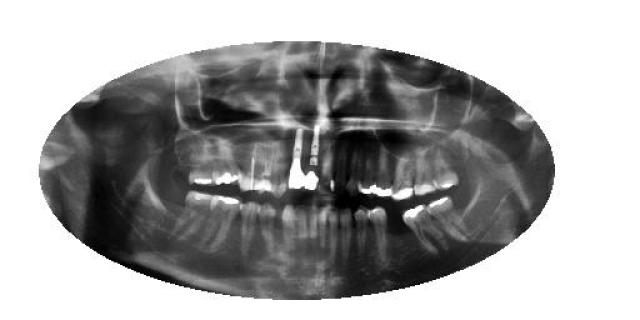Fillings: (401, 205, 449, 253), (202, 194, 242, 248), (170, 190, 212, 241), (427, 196, 468, 242), (212, 138, 240, 188), (431, 149, 460, 191), (188, 138, 212, 188), (375, 142, 393, 200), (358, 152, 373, 198)
Implant: (304, 124, 321, 191), (287, 128, 305, 190)
